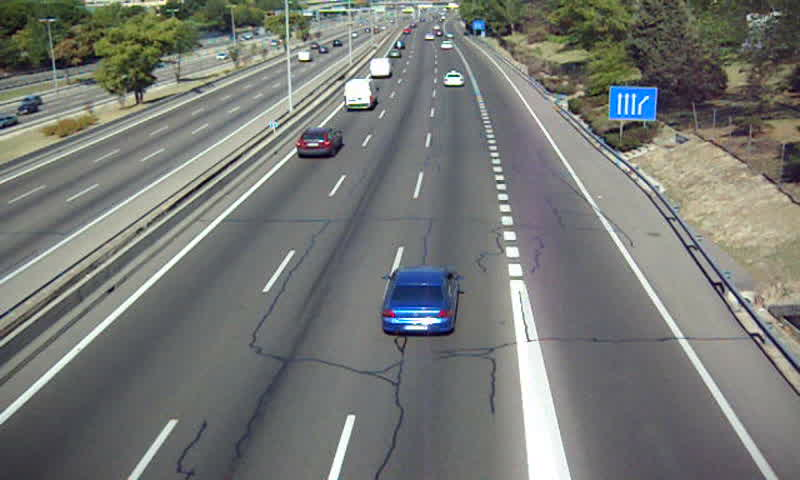car: (380, 265, 460, 334), (296, 127, 346, 156), (444, 72, 465, 86), (388, 48, 402, 60)
van: (343, 78, 376, 112), (370, 58, 392, 78)
